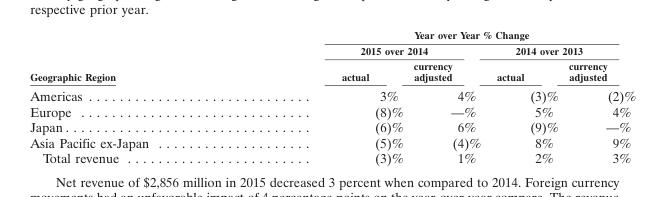table: (29, 28, 635, 165)
table column: (29, 28, 244, 165), (244, 28, 407, 165), (407, 28, 488, 165), (488, 28, 562, 165), (562, 28, 635, 165)
table column header: (29, 28, 635, 85)
table row: (29, 57, 635, 85), (29, 85, 635, 103), (29, 103, 635, 119), (29, 134, 635, 150), (29, 42, 635, 57), (29, 119, 635, 134), (29, 150, 635, 165), (29, 28, 635, 42)
table spanning cell: (29, 28, 244, 85), (244, 28, 635, 42), (244, 42, 488, 57), (488, 42, 635, 57)
